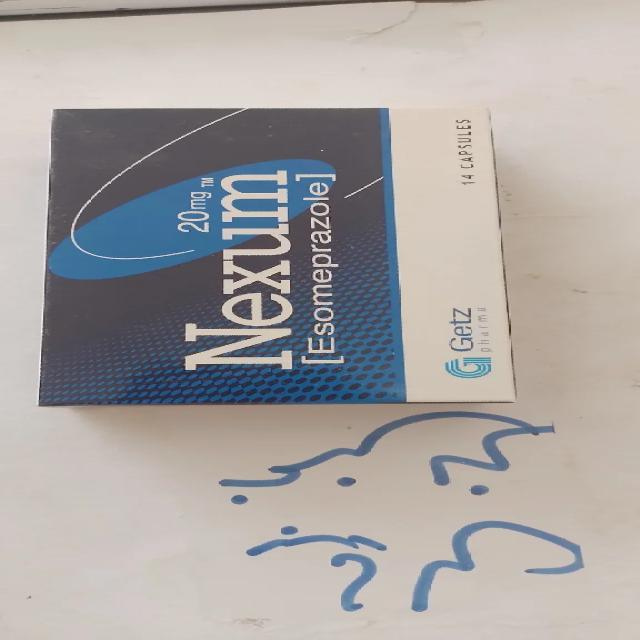drug-name: (180, 166, 294, 372)
